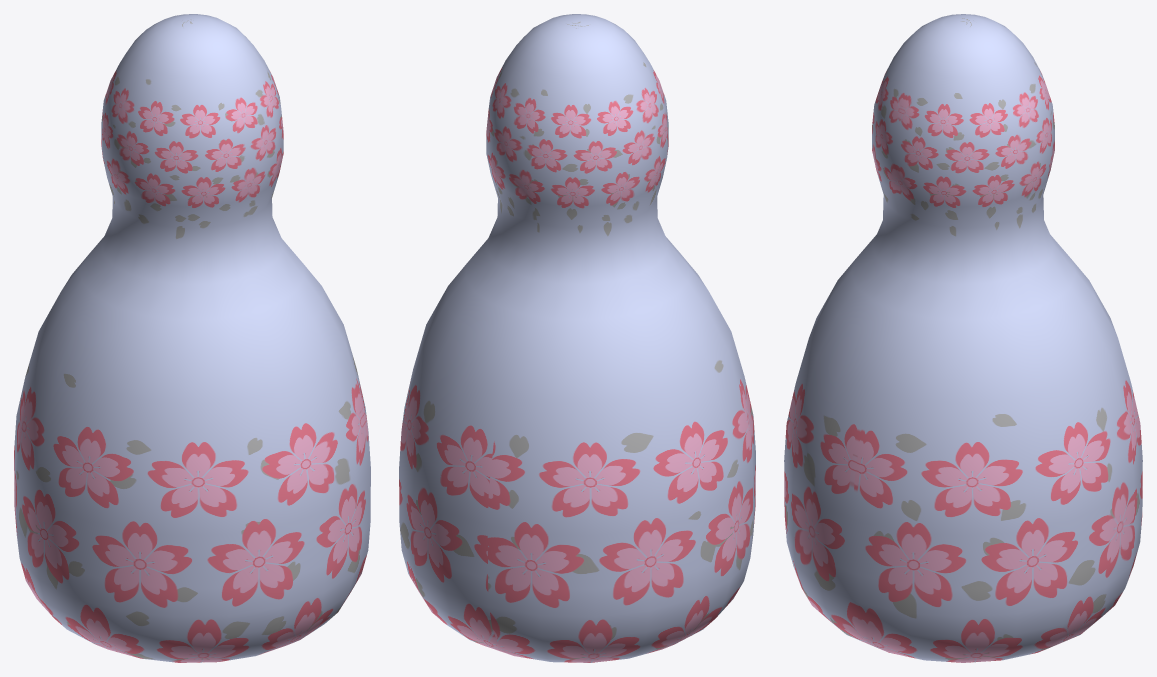
File: Bob.fbx
3 renders of one model, left to right at view 1: azimuth 30°, elevation 25°; view 2: azimuth 150°, elevation 25°; view 3: azimuth 270°, elevation 25°, orthographic.
Visible parts, largest first — view 1: Bob; view 2: Bob; view 3: Bob.
Boxes of the visible parts, <box> form: Bob: <box>14,14,370,662</box>; Bob: <box>399,14,755,662</box>; Bob: <box>784,14,1142,662</box>.
Size of the model in its own units: 546 by 1020 by 546.
1 material, 1 textured.
